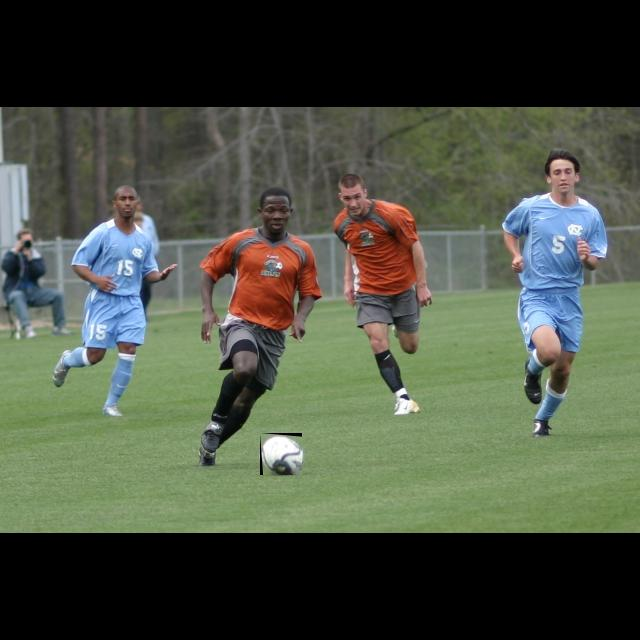Football: (260, 433, 302, 475)
